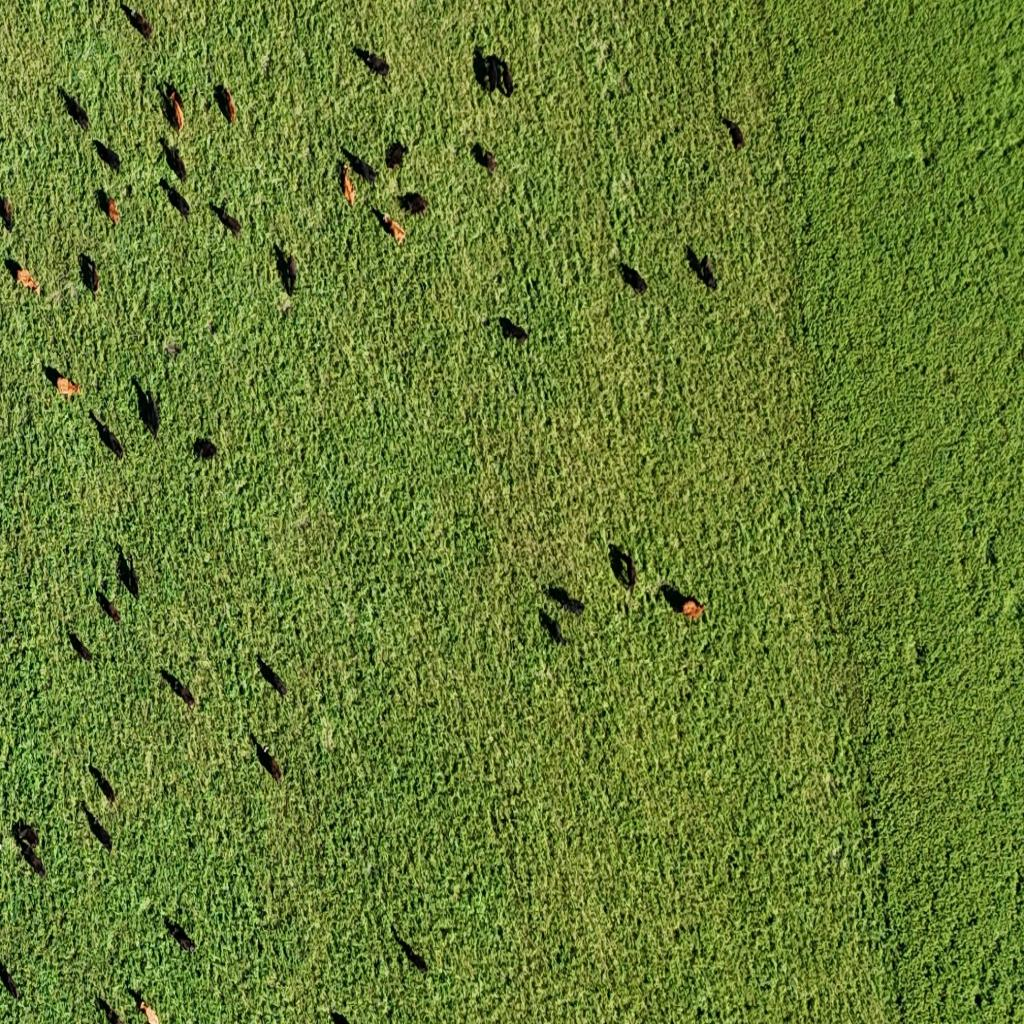cow: (43, 357, 81, 411), (658, 582, 706, 623), (392, 925, 428, 975), (475, 52, 513, 98), (14, 826, 46, 880), (91, 411, 126, 460), (609, 542, 637, 598), (340, 146, 378, 186), (685, 246, 718, 292), (59, 86, 91, 131), (374, 204, 408, 246), (159, 670, 196, 708), (84, 808, 113, 856), (272, 245, 298, 298), (4, 256, 39, 295), (163, 916, 197, 956), (252, 738, 282, 783), (257, 658, 287, 700), (120, 4, 152, 43), (115, 544, 138, 598), (210, 200, 243, 237), (161, 82, 184, 135), (354, 44, 390, 77), (618, 260, 650, 297), (89, 765, 117, 807), (130, 986, 160, 1024), (548, 585, 584, 616), (160, 137, 184, 183), (539, 608, 566, 646), (0, 956, 22, 1000), (80, 252, 101, 296), (93, 141, 121, 173), (166, 184, 190, 220), (68, 630, 94, 662), (97, 189, 119, 226), (499, 315, 528, 343), (216, 86, 236, 126), (145, 386, 161, 435), (722, 115, 744, 150), (97, 592, 121, 624), (96, 995, 122, 1023), (399, 192, 429, 216), (342, 162, 358, 205), (476, 145, 498, 175), (385, 141, 406, 172), (194, 437, 220, 461), (1, 194, 14, 230), (330, 1009, 350, 1024)
